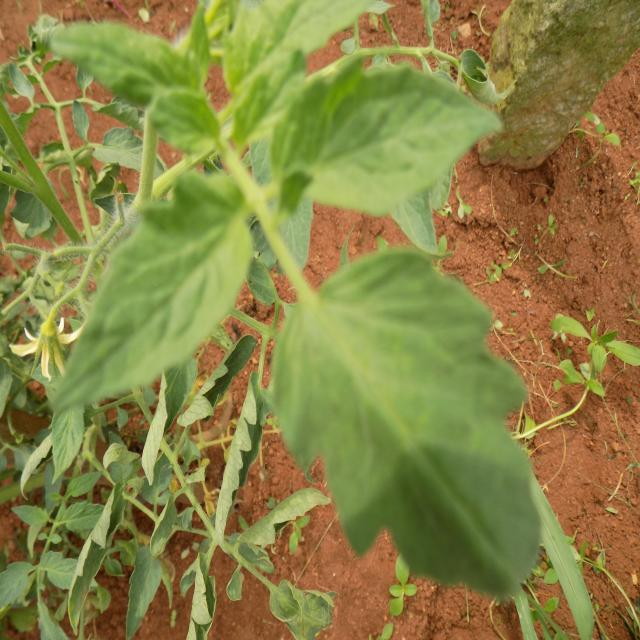tomato_healthy: (265, 245, 547, 602), (52, 173, 250, 418), (267, 52, 499, 215), (43, 22, 204, 142)
